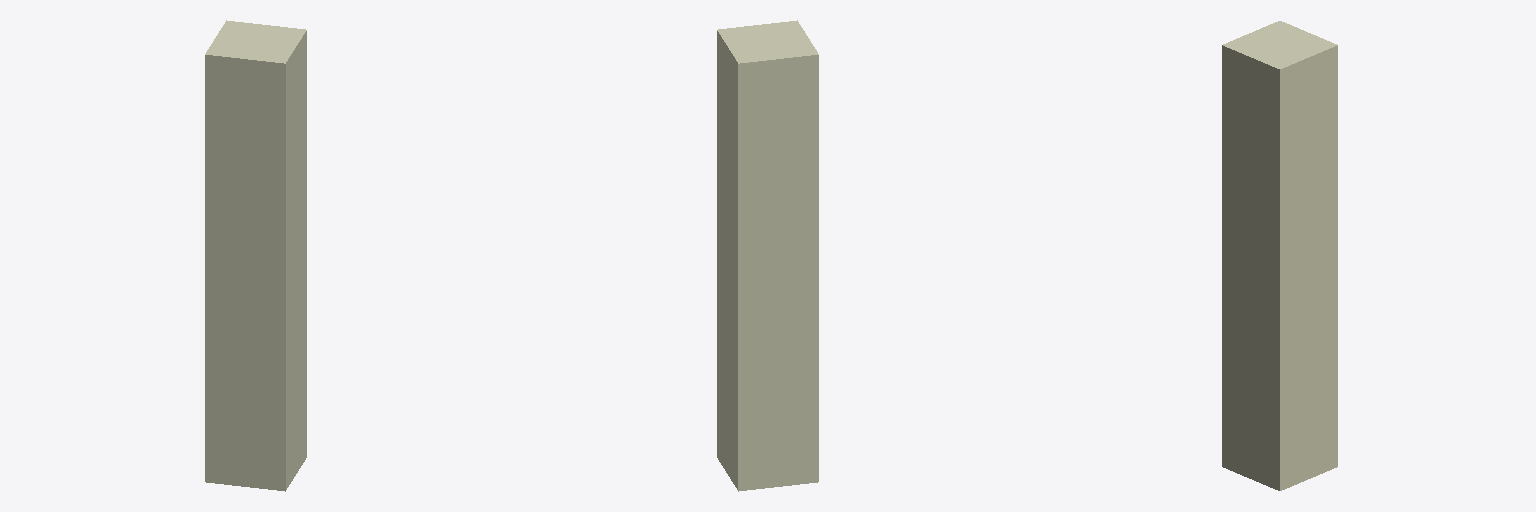
The robot description file, URDF, robot "darias_base":
<?xml version="1.0"?>
<robot name="darias_base">
  <link name="base_link">
    <visual>
      <origin xyz="-0.17 0 0.025" rpy="0 0 0.785398163" />
      <geometry>
        <box size="0.23 0.23 1.3" />
      </geometry>
      <material name="Silver">
        <color rgba="0.85 0.85 0.75 1" />
      </material>
    </visual>
    <collision>
      <origin xyz="-0.17 0 0.025" rpy="0 0 0" />
      <geometry>
        <box size="0.23 0.23 1.3" />
      </geometry>
    </collision>
  </link>
</robot>

--- Render facts (derived) ---
3 views of the same robot in one strip: view 1: azimuth 30°, elevation 25°; view 2: azimuth 150°, elevation 25°; view 3: azimuth 270°, elevation 25° (orthographic).
Robot: darias_base — 1 links, 0 joints (none); root link base_link; default pose: all joints at 0.
Links seen in each view (by area): view 1: base_link; view 2: base_link; view 3: base_link.
Link boxes in pixels (left/top/right/bottom): base_link: left=205, top=20, right=306, bottom=491; base_link: left=717, top=20, right=818, bottom=491; base_link: left=1222, top=21, right=1337, bottom=490.
Size in the robot's own frame: 0.3253 by 0.3253 by 1.3 metres.
Geometry: primitives only (box / cylinder / sphere), no mesh files.
